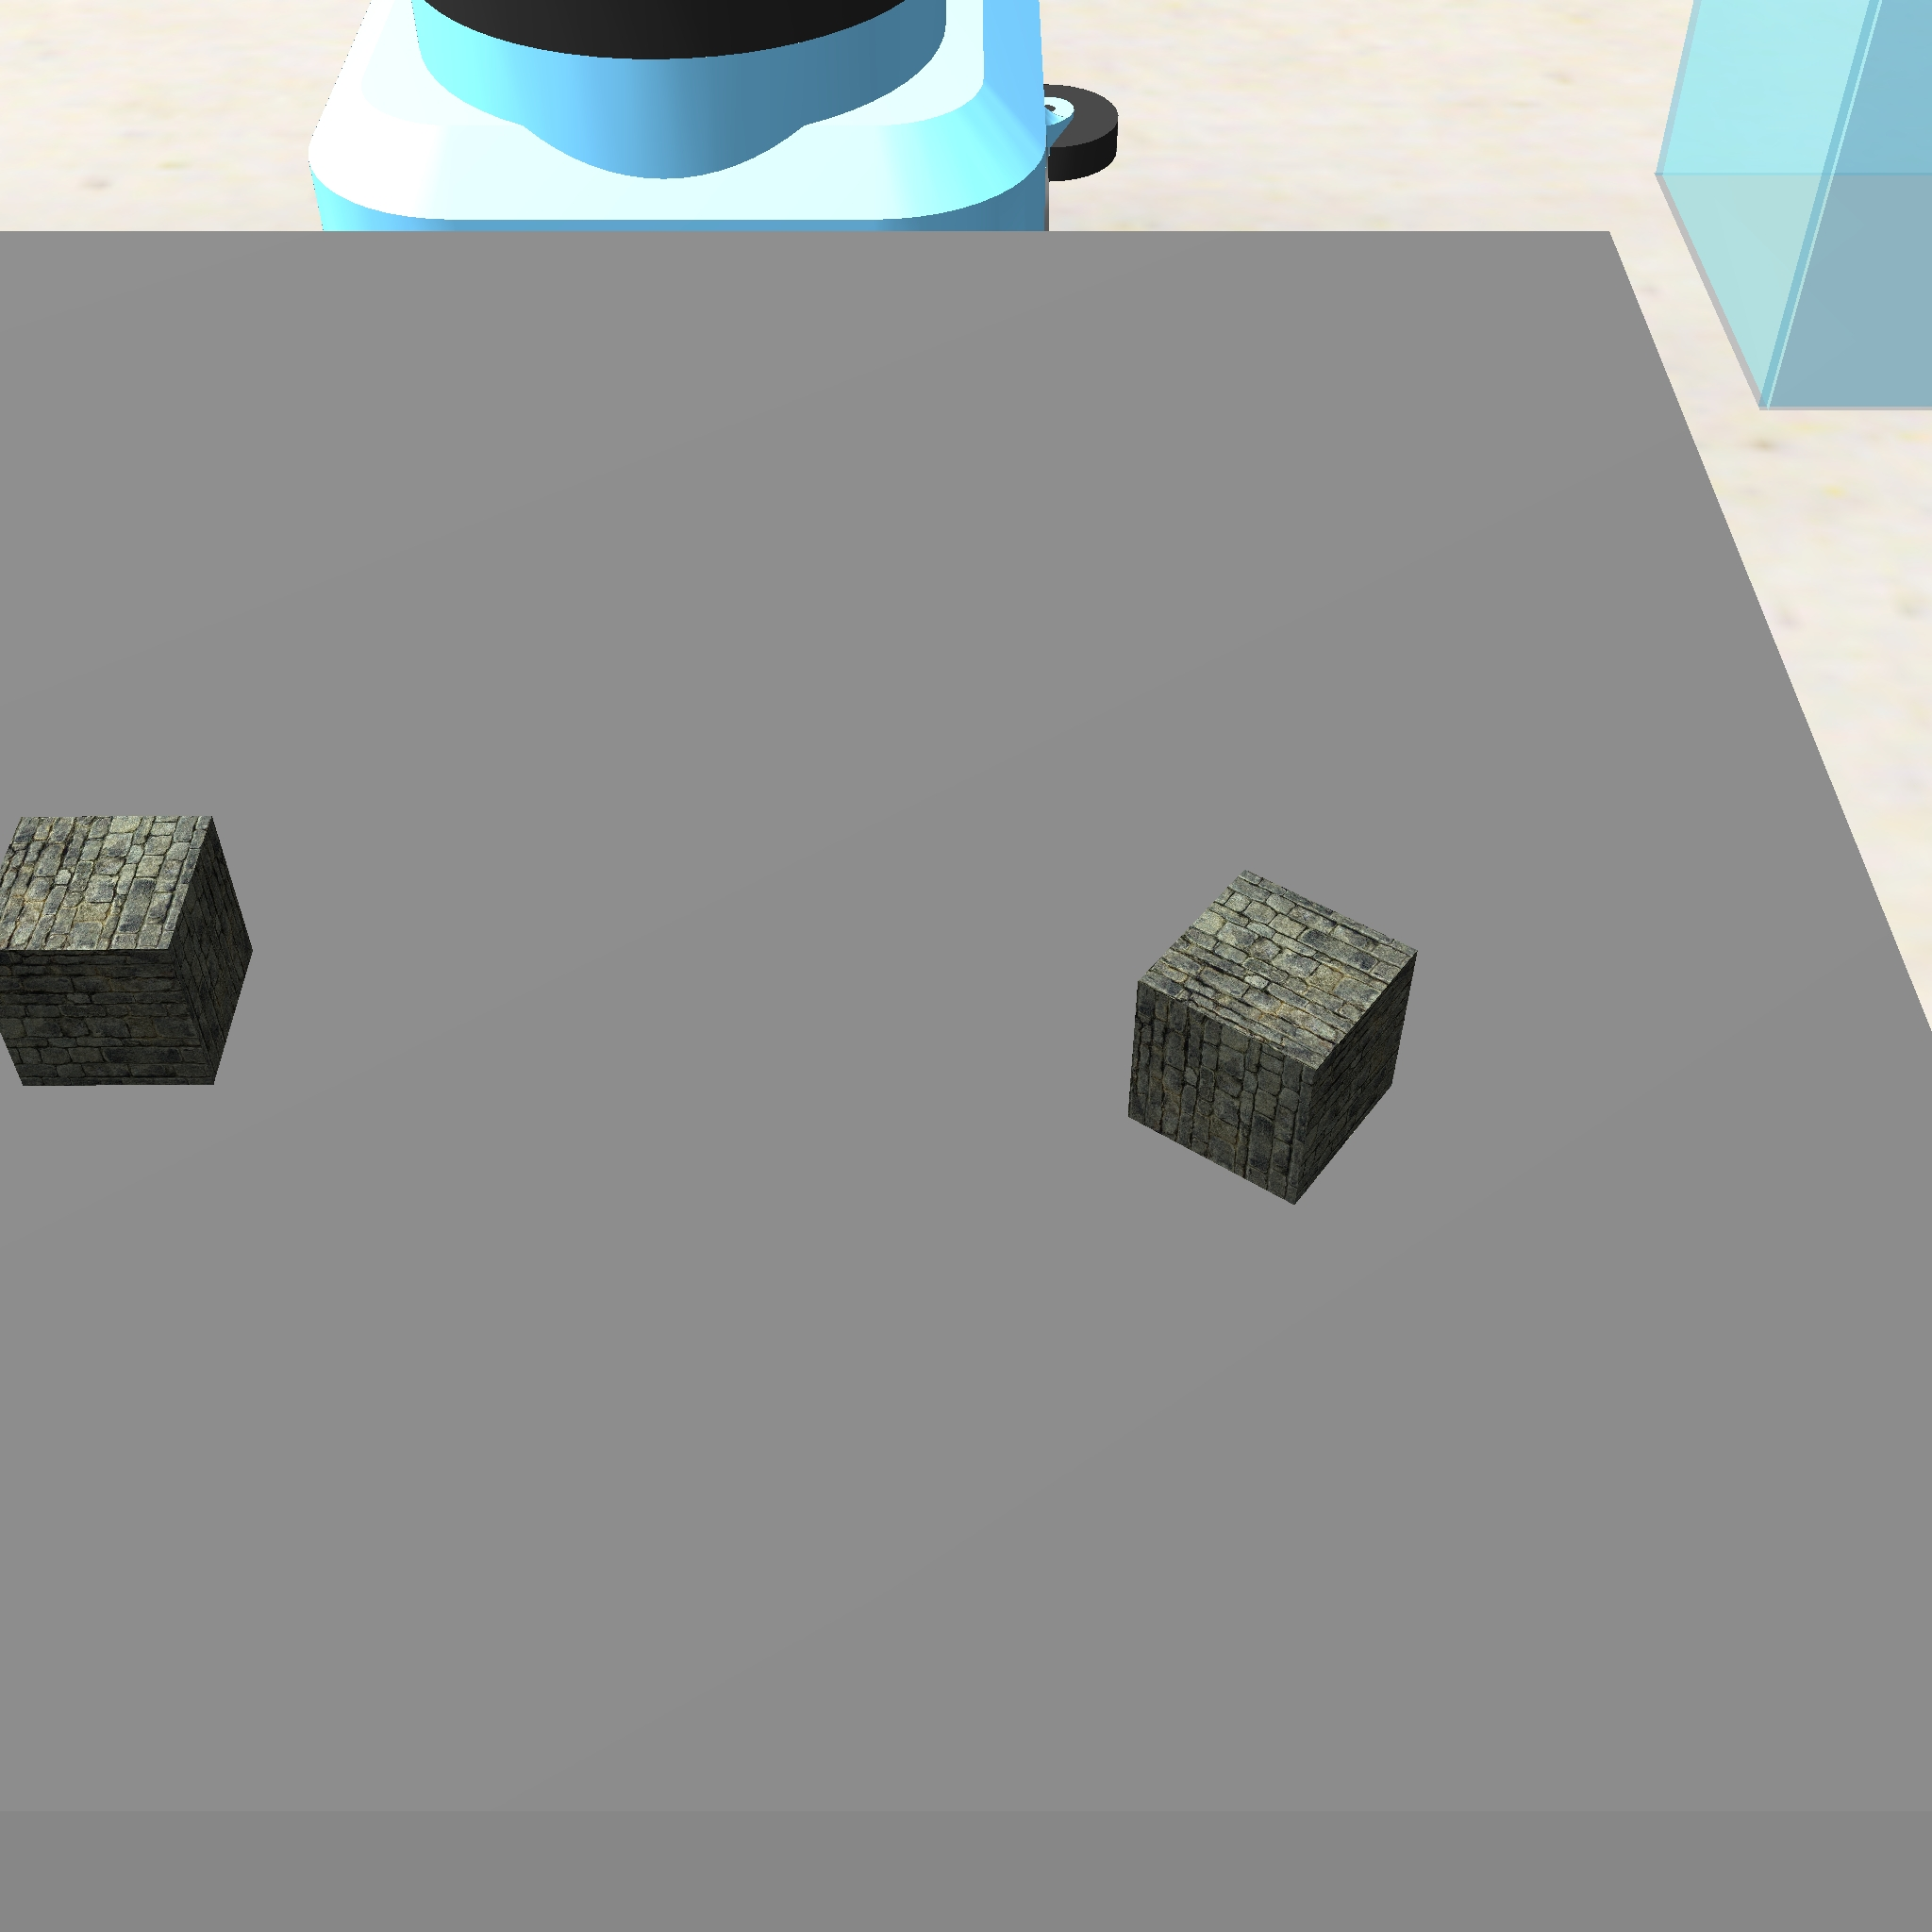cube: (1118, 858, 1422, 1212), (0, 801, 262, 1095)
